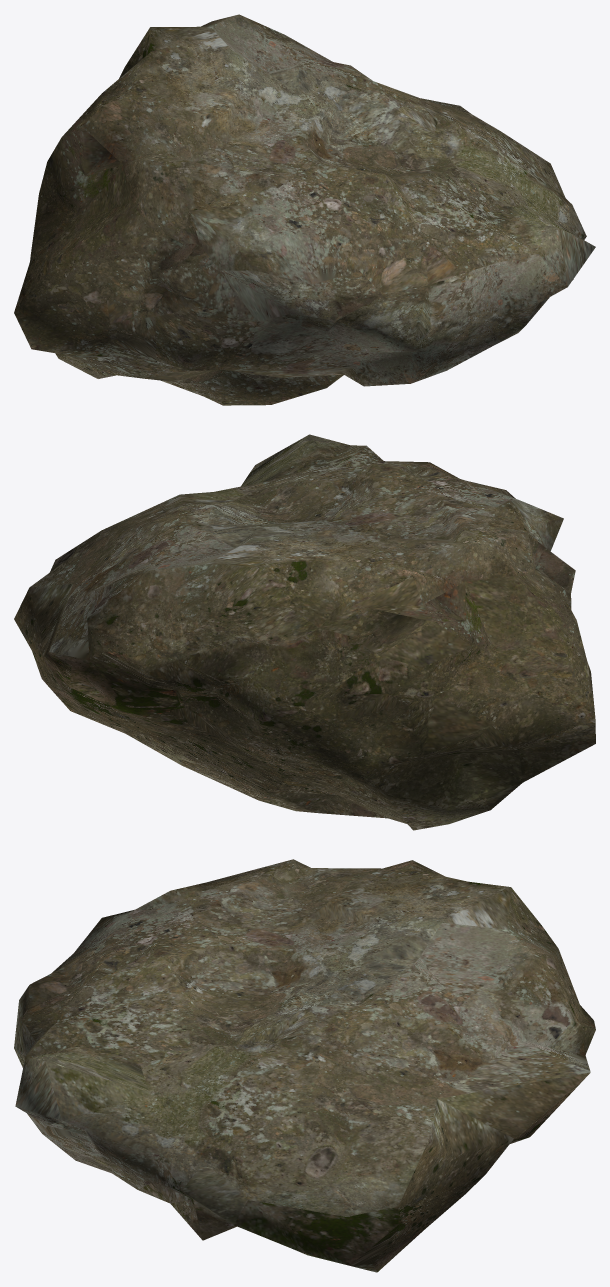
File: batu kecil 3.fbx
The picture shows the model from 3 angles, top to bottom: view 1: azimuth 30°, elevation 25°; view 2: azimuth 150°, elevation 25°; view 3: azimuth 270°, elevation 25°; orthographic projection. The views are drawn at different scales.
Parts seen in each view (by area): view 1: batu kecil 3; view 2: batu kecil 3; view 3: batu kecil 3.
Boxes of the visible parts, x1=… form: batu kecil 3: x1=14, y1=14, x2=595, y2=405; batu kecil 3: x1=14, y1=434, x2=595, y2=830; batu kecil 3: x1=14, y1=859, x2=595, y2=1272.
Size of the model in its own units: 44.9 by 24.09 by 41.34.
